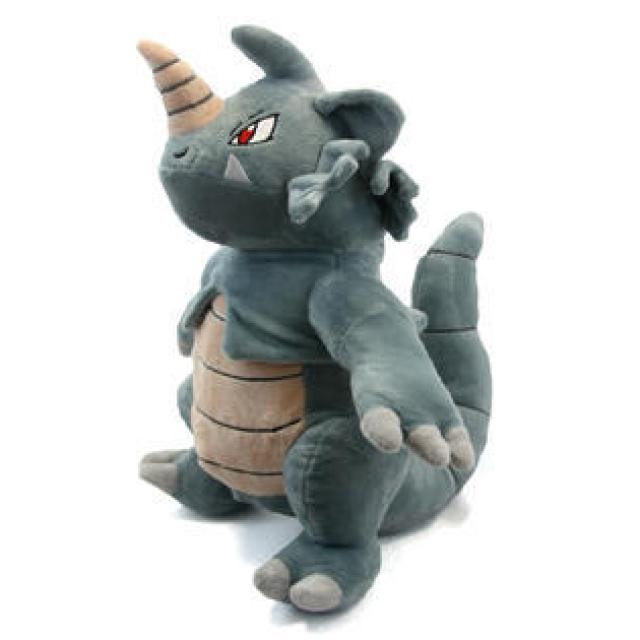Rhydon: (137, 20, 494, 628)
